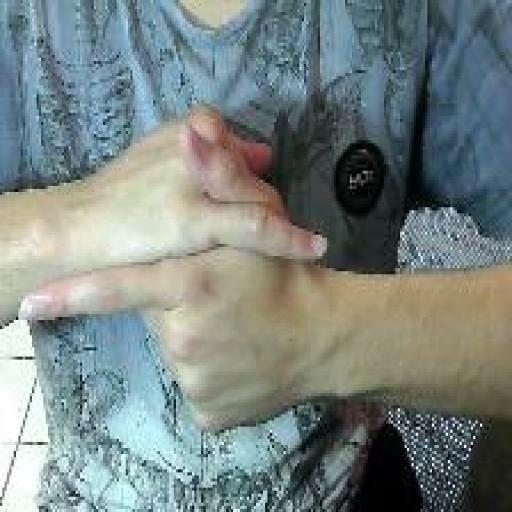U -hare-: (16, 97, 331, 439)
